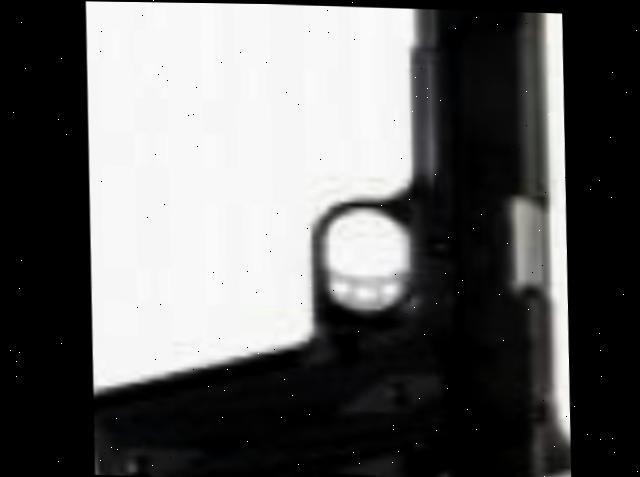pistol: (77, 1, 576, 477)
